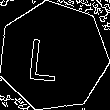L_N: (36, 30, 71, 83)
